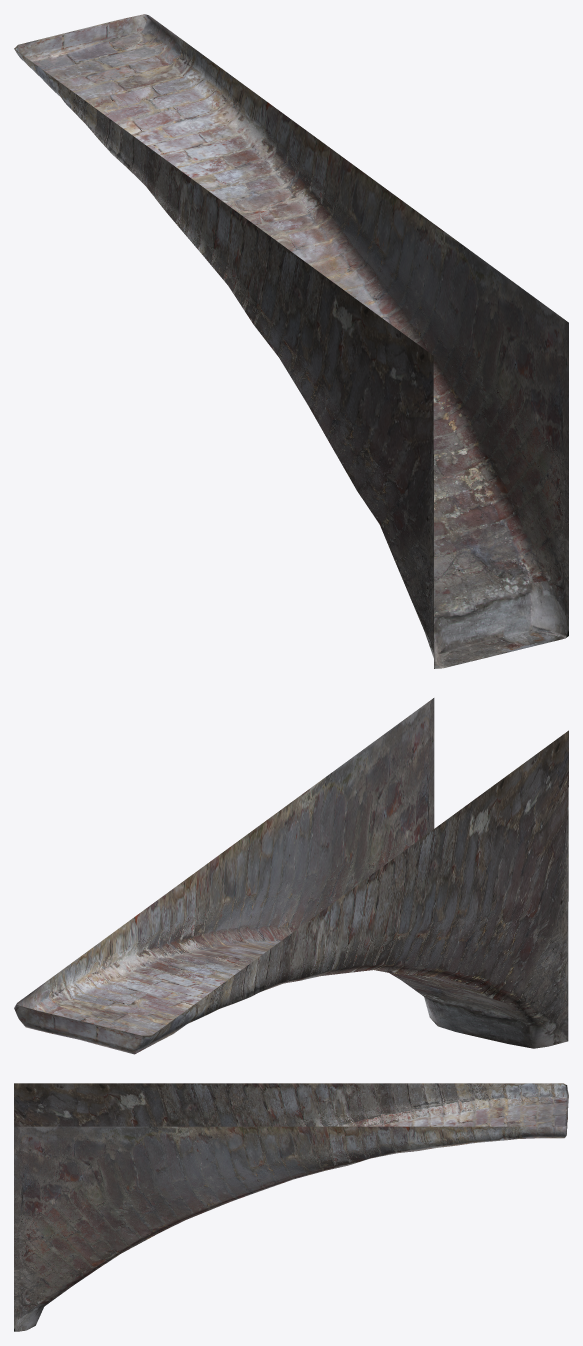
Rendered from SM_CryptArch_01_03.fbx.
3 renders of one model, top to bottom at view 1: azimuth 30°, elevation 25°; view 2: azimuth 150°, elevation 25°; view 3: azimuth 270°, elevation 25°, orthographic. The views are drawn at different scales.
Parts seen in each view (by area): view 1: sm_CryptArch_01_03_LOD0; view 2: sm_CryptArch_01_03_LOD0; view 3: sm_CryptArch_01_03_LOD0.
Part boxes in pixels (x1,y1,x2,y2): sm_CryptArch_01_03_LOD0: (14, 14, 568, 668); sm_CryptArch_01_03_LOD0: (14, 698, 568, 1054); sm_CryptArch_01_03_LOD0: (14, 1083, 568, 1331).
Bounding box in the file's own units: 305 × 58.13 × 125.
